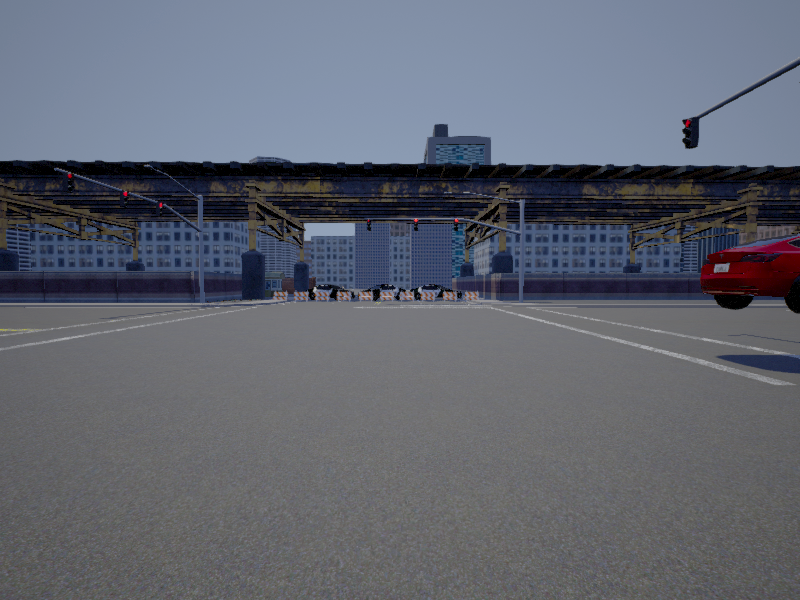Attacker: (701, 234, 800, 317)
